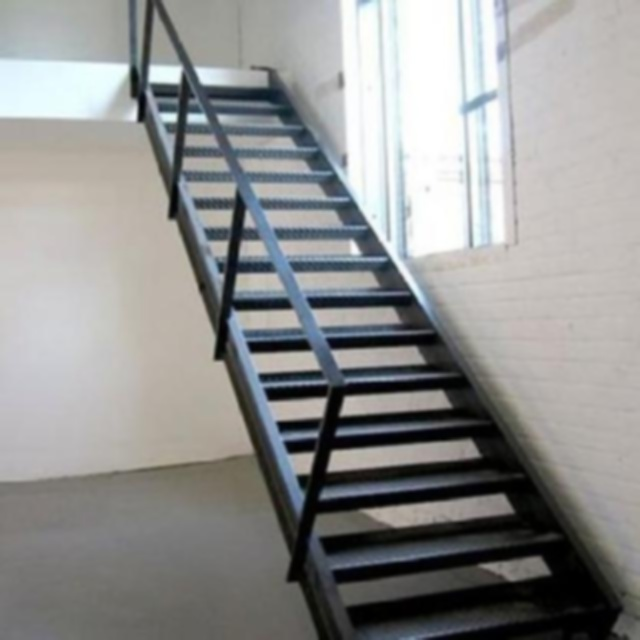stair: (108, 41, 627, 633)
